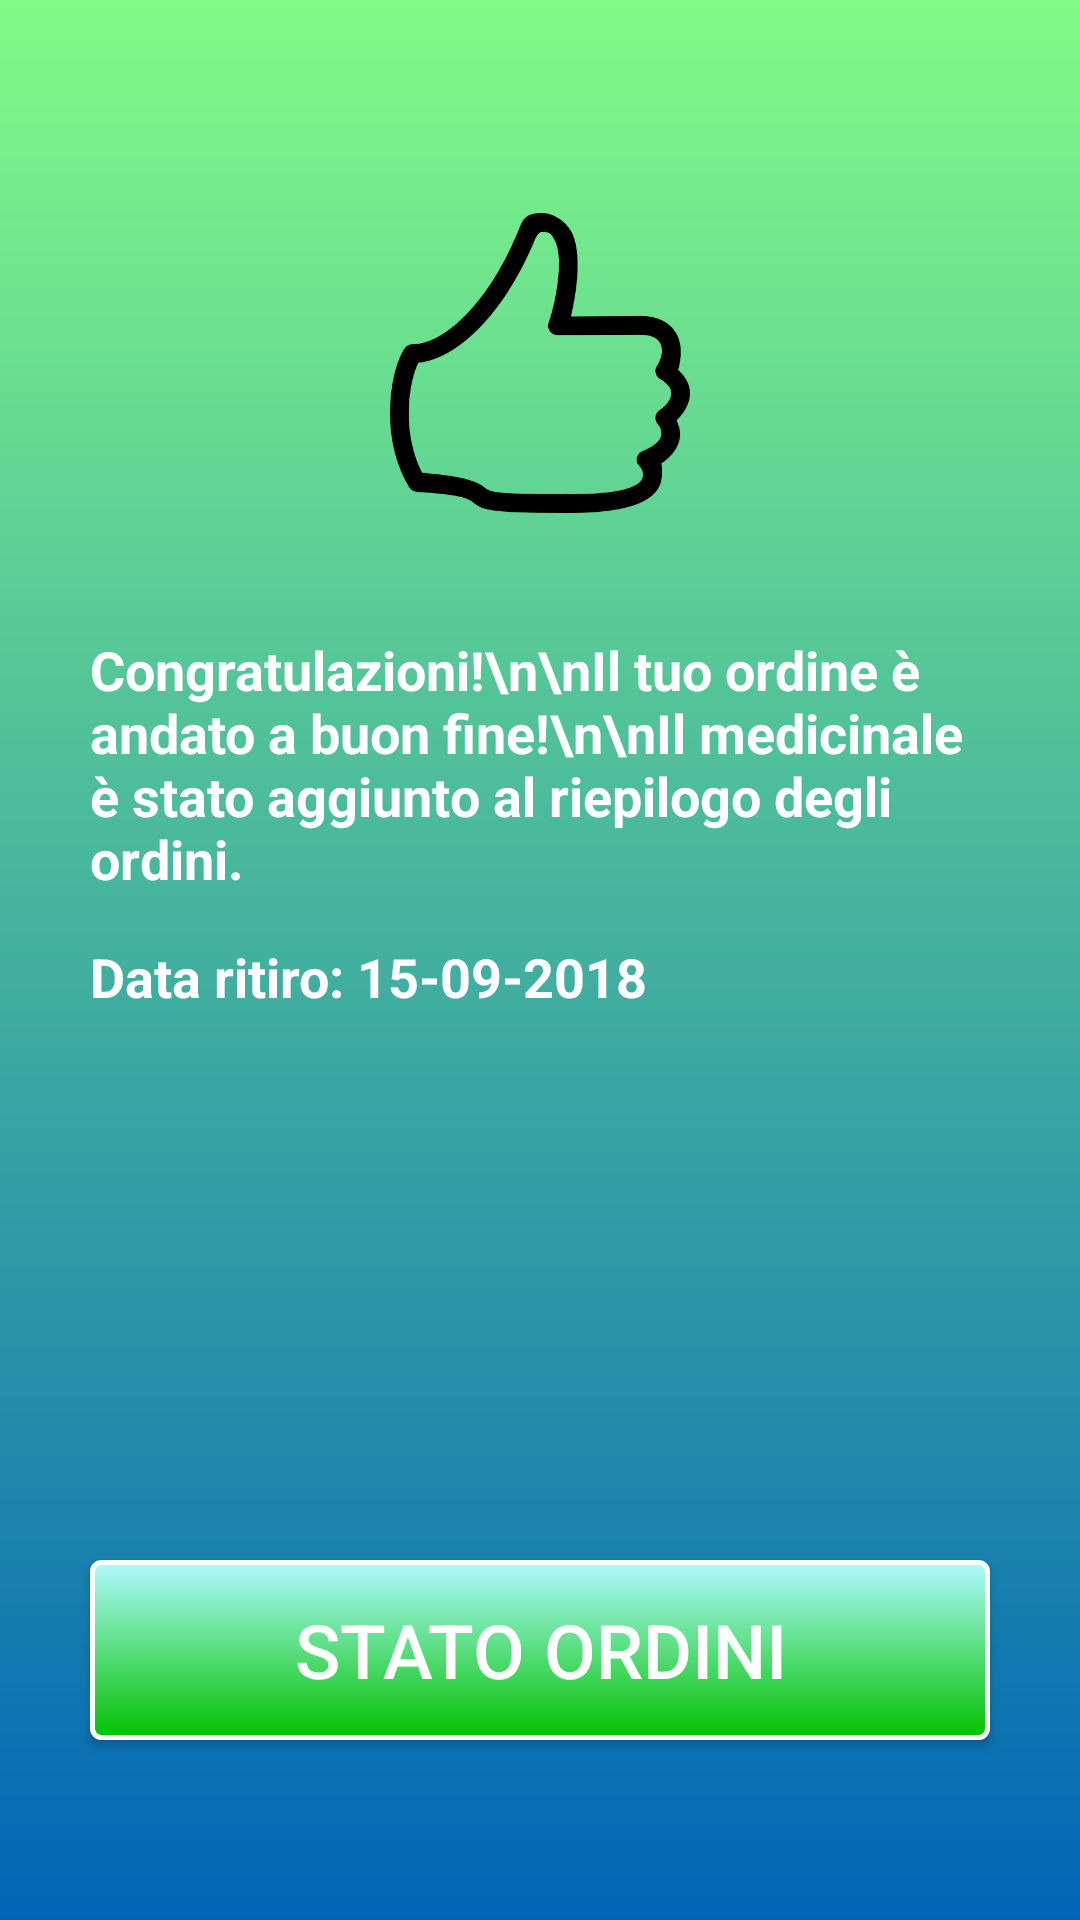

Icon click points for this 1080 x 1920 phone screenshot, format (x=x, y=y):
confirm hand: (x=540, y=363)
